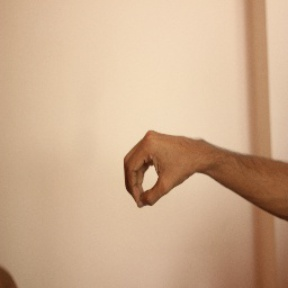O: (119, 127, 205, 210)
